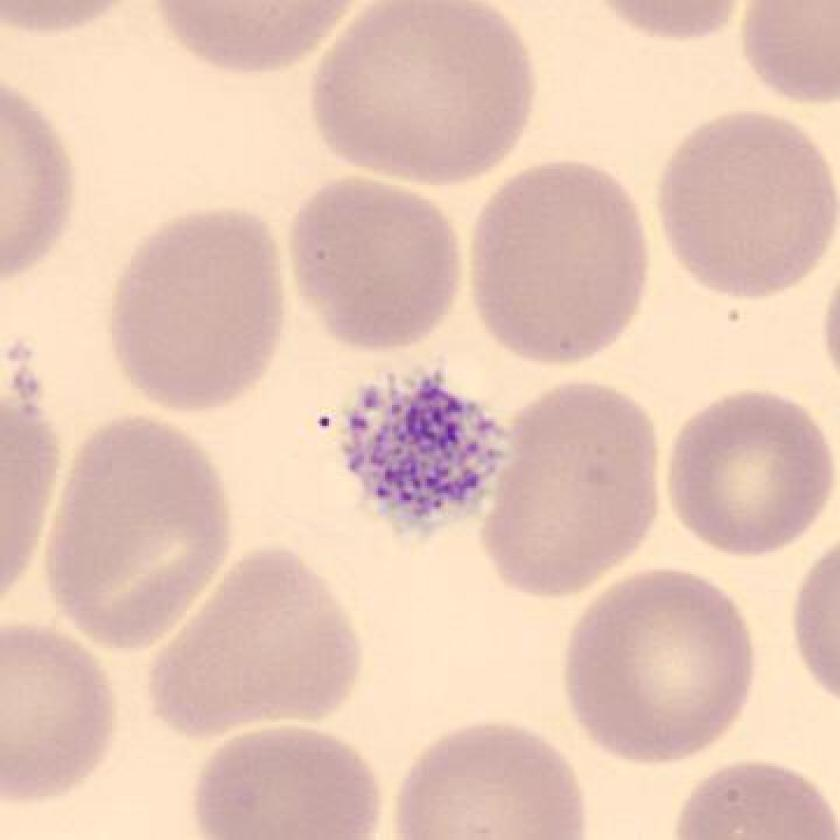platelets: (321, 362, 521, 545)
